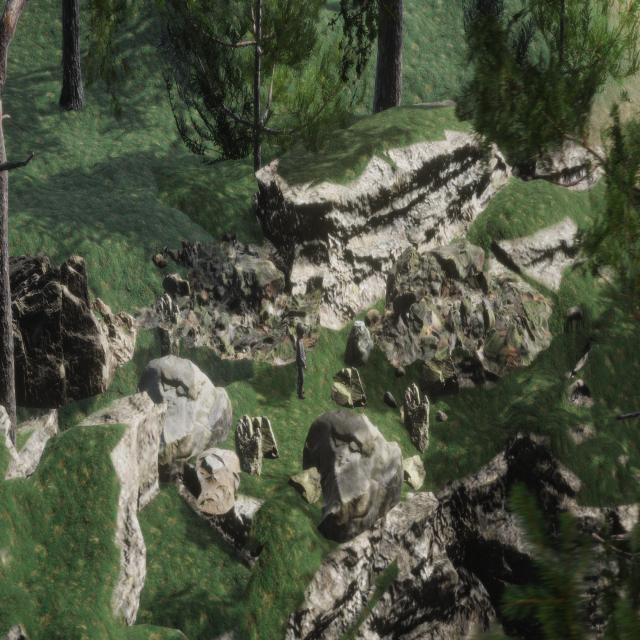Human: (289, 312, 314, 415)
